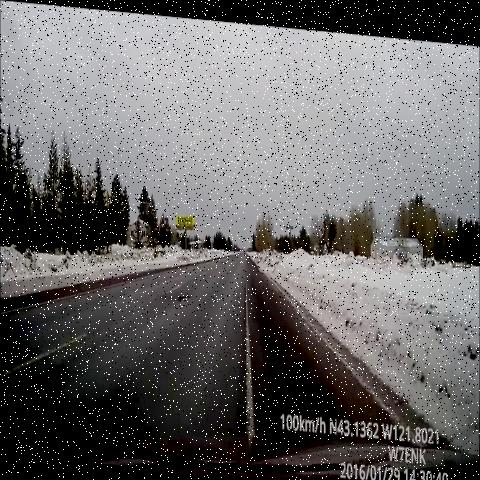pothole: (174, 274, 193, 313)
